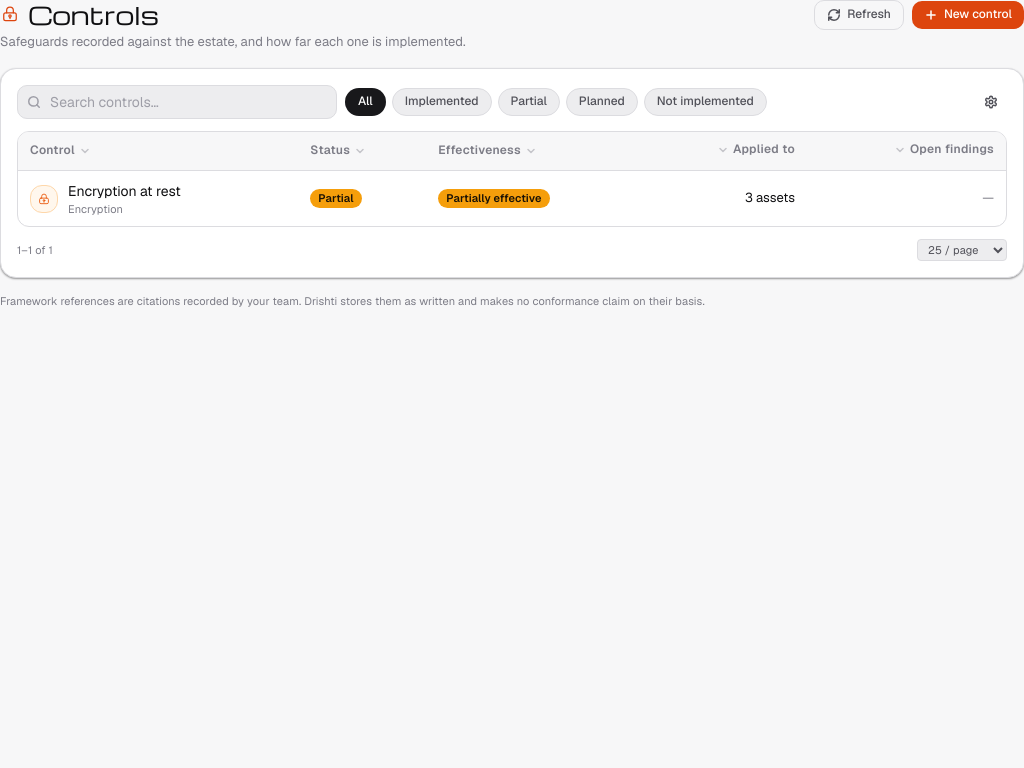
Test: Controls — writes › keeps Record assessment inert until something actually changes
The width and height of the screenshot is (1024, 768).
Step 1. Click the text "Encryption at rest" → (124,191), box [68, 181, 181, 202]
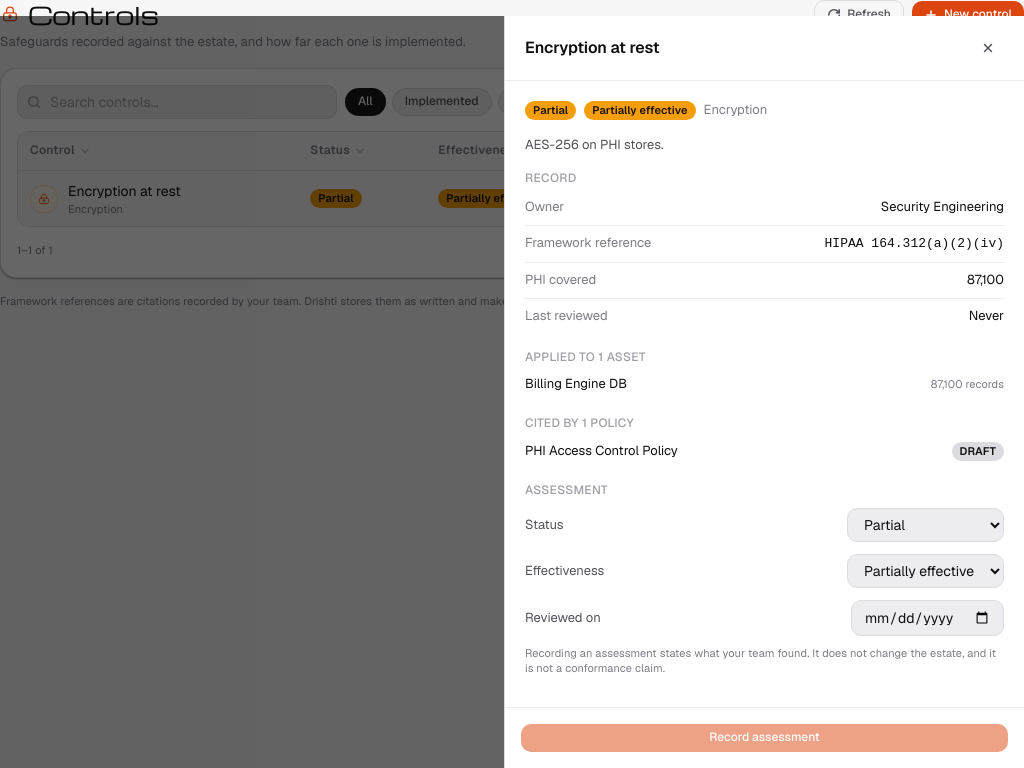
Check: the button "Record assessment" is disabled, box [521, 724, 1008, 752]
